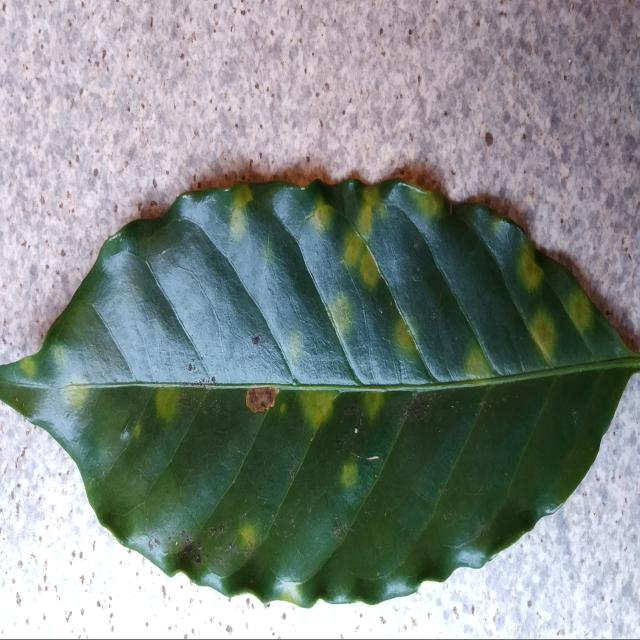Enfermedad-Roya: (11, 176, 640, 610)
